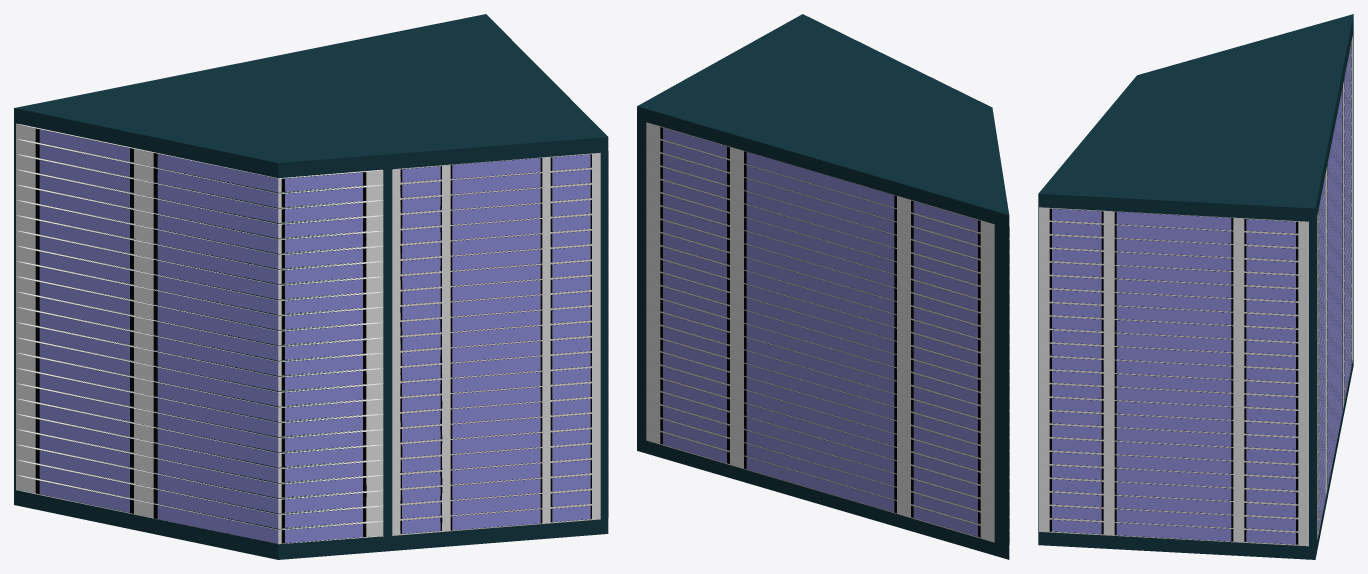
File: 86KensingtonBoulevard.fbx
The picture shows the model from 3 angles, left to right: view 1: azimuth 30°, elevation 25°; view 2: azimuth 150°, elevation 25°; view 3: azimuth 270°, elevation 25°; orthographic projection. The views are drawn at different scales.
Visible parts, largest first — view 1: Window, 86KensingtonBoulevard, Window.001; view 2: Window.003, 86KensingtonBoulevard; view 3: Window.002, 86KensingtonBoulevard, Window.003.
Boxes of the visible parts, x1,y1,x2,y2 form: Window: [16, 123, 383, 544]; 86KensingtonBoulevard: [14, 14, 608, 559]; Window.001: [392, 152, 600, 535]; Window.003: [646, 122, 994, 542]; 86KensingtonBoulevard: [637, 14, 1009, 559]; Window.002: [1039, 207, 1308, 546]; 86KensingtonBoulevard: [1038, 14, 1353, 559]; Window.003: [1317, 35, 1352, 539].
Bounding box in the file's own units: 6294 × 5300 × 4312.
